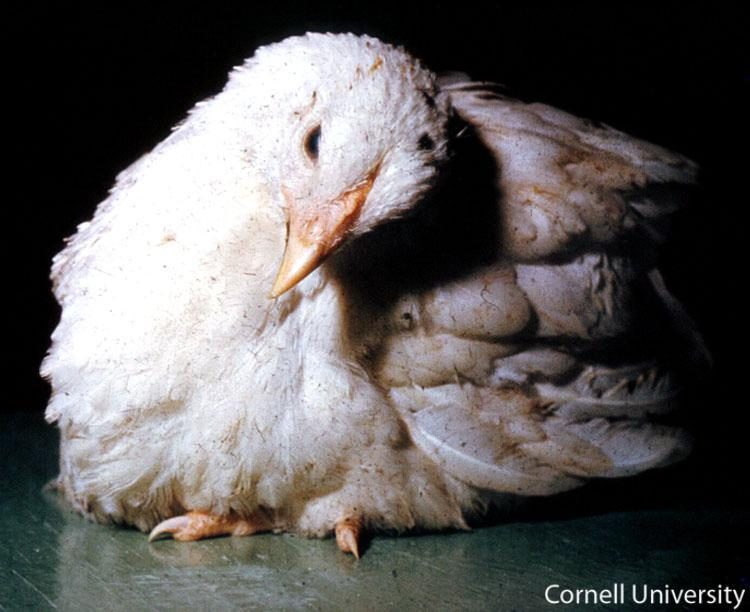AbNormal: (40, 27, 699, 558)
